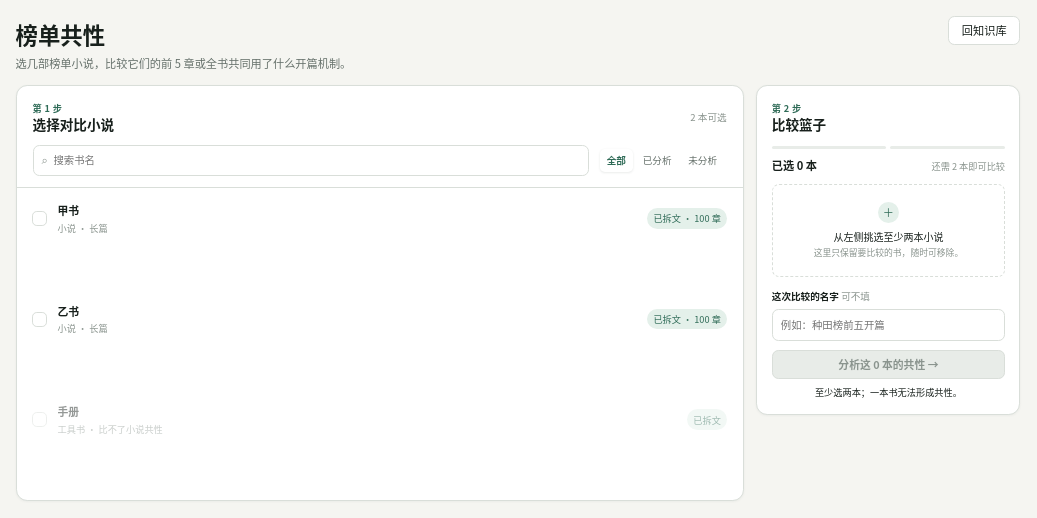
挑书这一步 › 只挑一本时开始按钮点不动
Click the button with test id "cp-pick-1" at (83,228), box left=23, top=194, right=736, bottom=243
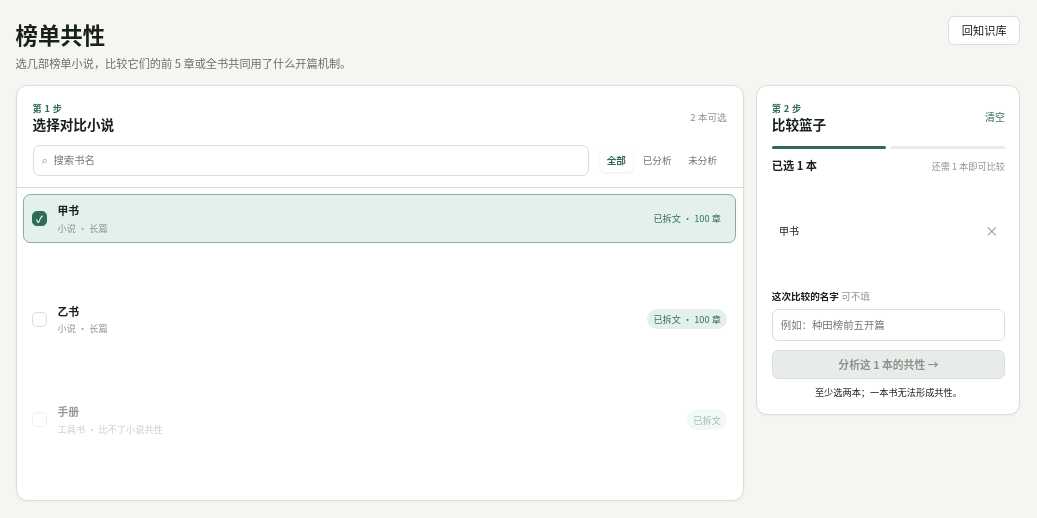
Expected: the button with test id "cp-start" showing "分析这 1 本的共性 →" is disabled, left=772, top=350, right=1005, bottom=379
Expected: the element with test id "cp-count" shows "已选 1 本", left=772, top=158, right=1005, bottom=175
